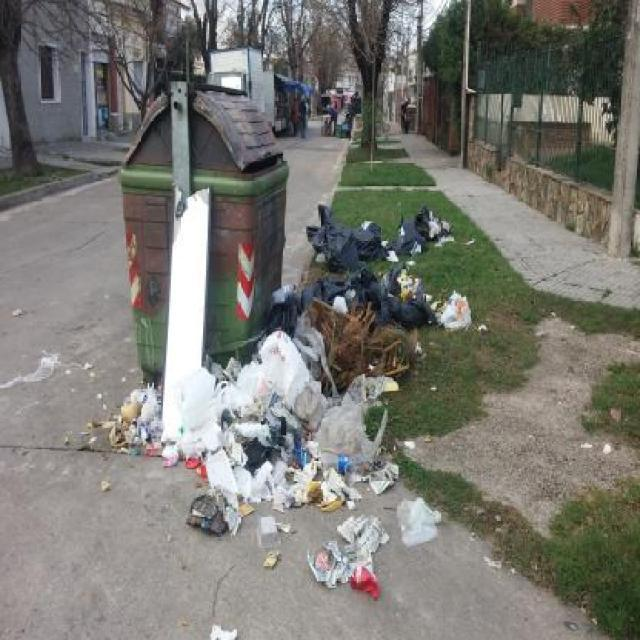garbage: (131, 337, 378, 574), (286, 265, 471, 348), (308, 208, 451, 260)
